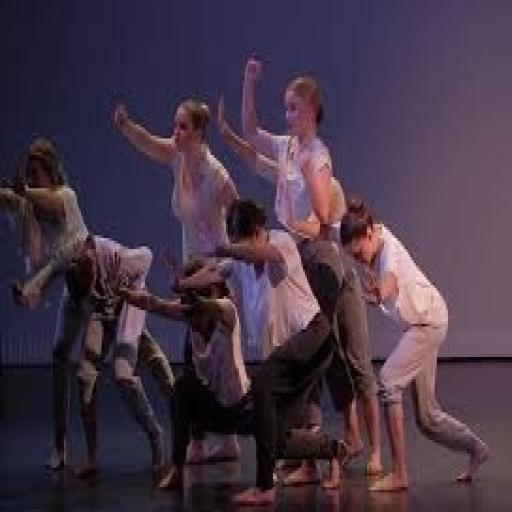dancing: (0, 80, 435, 434)
